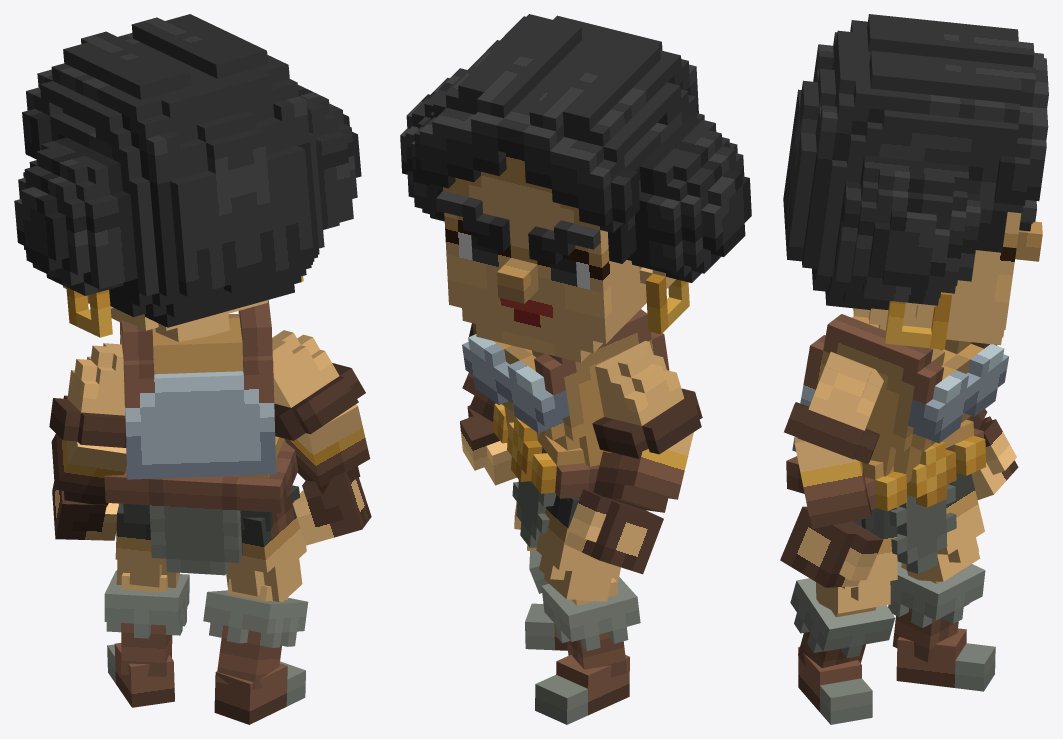
File: dwarf-05.static.glb
3 renders of one model, left to right at view 1: azimuth 30°, elevation 25°; view 2: azimuth 150°, elevation 25°; view 3: azimuth 270°, elevation 25°, orthographic.
Parts seen in each view (by area): view 1: Head-Local, Chest-Local, Hip-Local, Right_Leg-Local, Right_Arm-Local, Left_Leg-Local, Left_Arm-Local, Right_Thigh-Local, Right_Forearm-Local, Right_Hand-Local, Right_Foot-Local, Left_Forearm-Local (+3 smaller); view 2: Head-Local, Chest-Local, Left_Arm-Local, Hip-Local, Left_Leg-Local, Left_Hand-Local, Left_Forearm-Local, Left_Thigh-Local, Left_Foot-Local, Right_Hand-Local, Right_Foot-Local, Right_Forearm-Local; view 3: Head-Local, Chest-Local, Hip-Local, Right_Arm-Local, Left_Leg-Local, Right_Leg-Local, Right_Hand-Local, Right_Forearm-Local, Left_Foot-Local, Right_Foot-Local, Right_Thigh-Local, Left_Thigh-Local (+1 smaller).
Part boxes in pixels (x1,y1,x2,y2): Head-Local: [14, 14, 361, 341]; Chest-Local: [119, 300, 276, 479]; Hip-Local: [104, 436, 298, 575]; Right_Leg-Local: [203, 579, 308, 689]; Right_Arm-Local: [272, 330, 365, 440]; Left_Leg-Local: [104, 570, 189, 676]; Left_Arm-Local: [49, 343, 126, 447]; Right_Thigh-Local: [226, 485, 306, 601]; Right_Forearm-Local: [285, 404, 370, 494]; Right_Hand-Local: [292, 471, 371, 545]; Right_Foot-Local: [214, 661, 305, 724]; Left_Forearm-Local: [51, 434, 126, 506]; Head-Local: [400, 14, 751, 362]; Chest-Local: [462, 309, 669, 466]; Left_Arm-Local: [592, 341, 702, 458]; Hip-Local: [492, 403, 599, 547]; Left_Leg-Local: [541, 577, 640, 677]; Left_Hand-Local: [564, 489, 663, 574]; Left_Forearm-Local: [593, 432, 693, 512]; Left_Thigh-Local: [536, 495, 620, 601]; Left_Foot-Local: [535, 655, 629, 724]; Right_Hand-Local: [460, 405, 516, 485]; Right_Foot-Local: [525, 603, 567, 650]; Right_Forearm-Local: [462, 372, 496, 421]; Head-Local: [783, 14, 1048, 349]; Chest-Local: [792, 314, 1008, 483]; Hip-Local: [786, 419, 986, 573]; Right_Arm-Local: [784, 351, 883, 464]; Left_Leg-Local: [888, 561, 985, 662]; Right_Leg-Local: [790, 578, 894, 668]; Right_Hand-Local: [780, 506, 883, 587]; Right_Forearm-Local: [794, 436, 871, 528]; Left_Foot-Local: [896, 628, 995, 691]; Right_Foot-Local: [798, 646, 872, 724]; Right_Thigh-Local: [816, 507, 897, 613]; Left_Thigh-Local: [905, 473, 984, 581].
Bounding box in the file's own units: 24.16 × 47.55 × 17.9.
15 materials, 15 textured.
